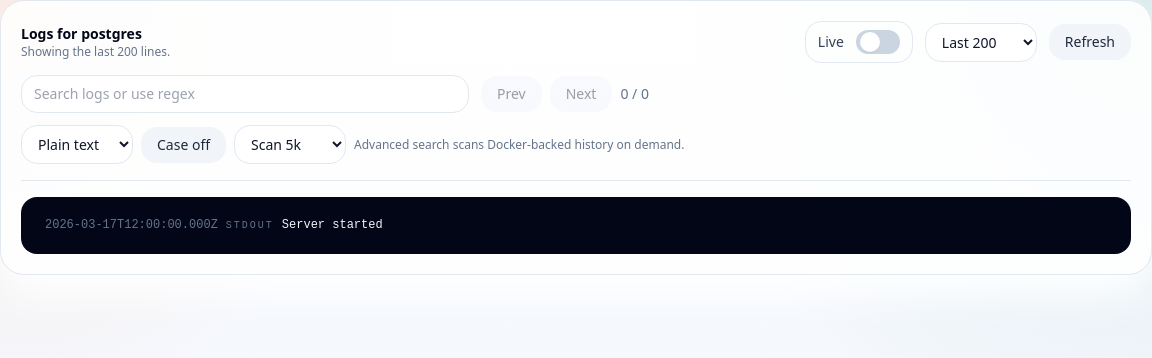
Test: ContainerLogsPanel › keeps live streaming active during advanced search and counts new matches without auto-scrolling
Expected: the text "Server started" is shown, left=282, top=218, right=383, bottom=232
Type "error" into the field named "Search logs for postgres". click: point(245, 94)
box: left=21, top=75, right=469, bottom=113
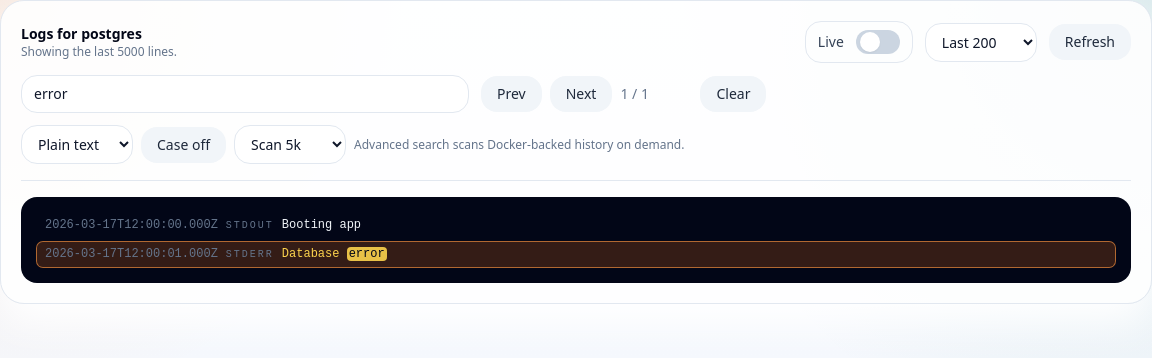
Expected: the text "1 / 1" is shown, left=620, top=84, right=649, bottom=103
Click the checkbox named "Toggle live logs for postgres". click: point(859, 42)
box: left=805, top=21, right=913, bottom=63
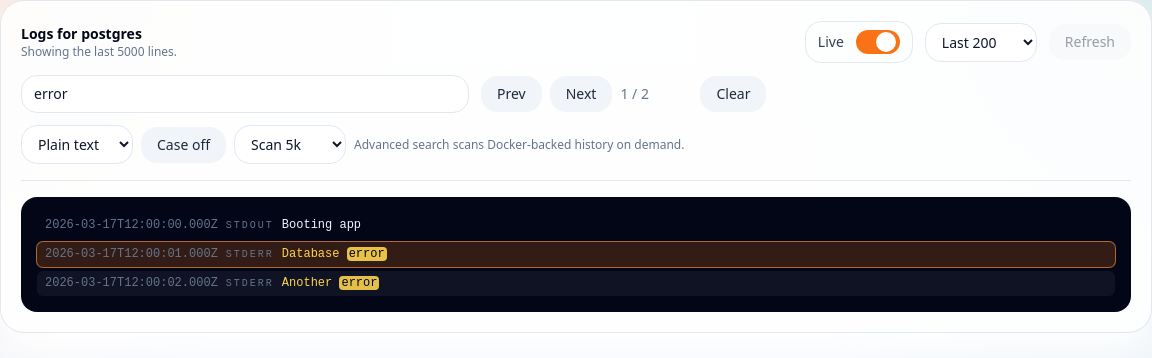
Expected: the text "1 / 2" is shown, left=620, top=84, right=649, bottom=103
